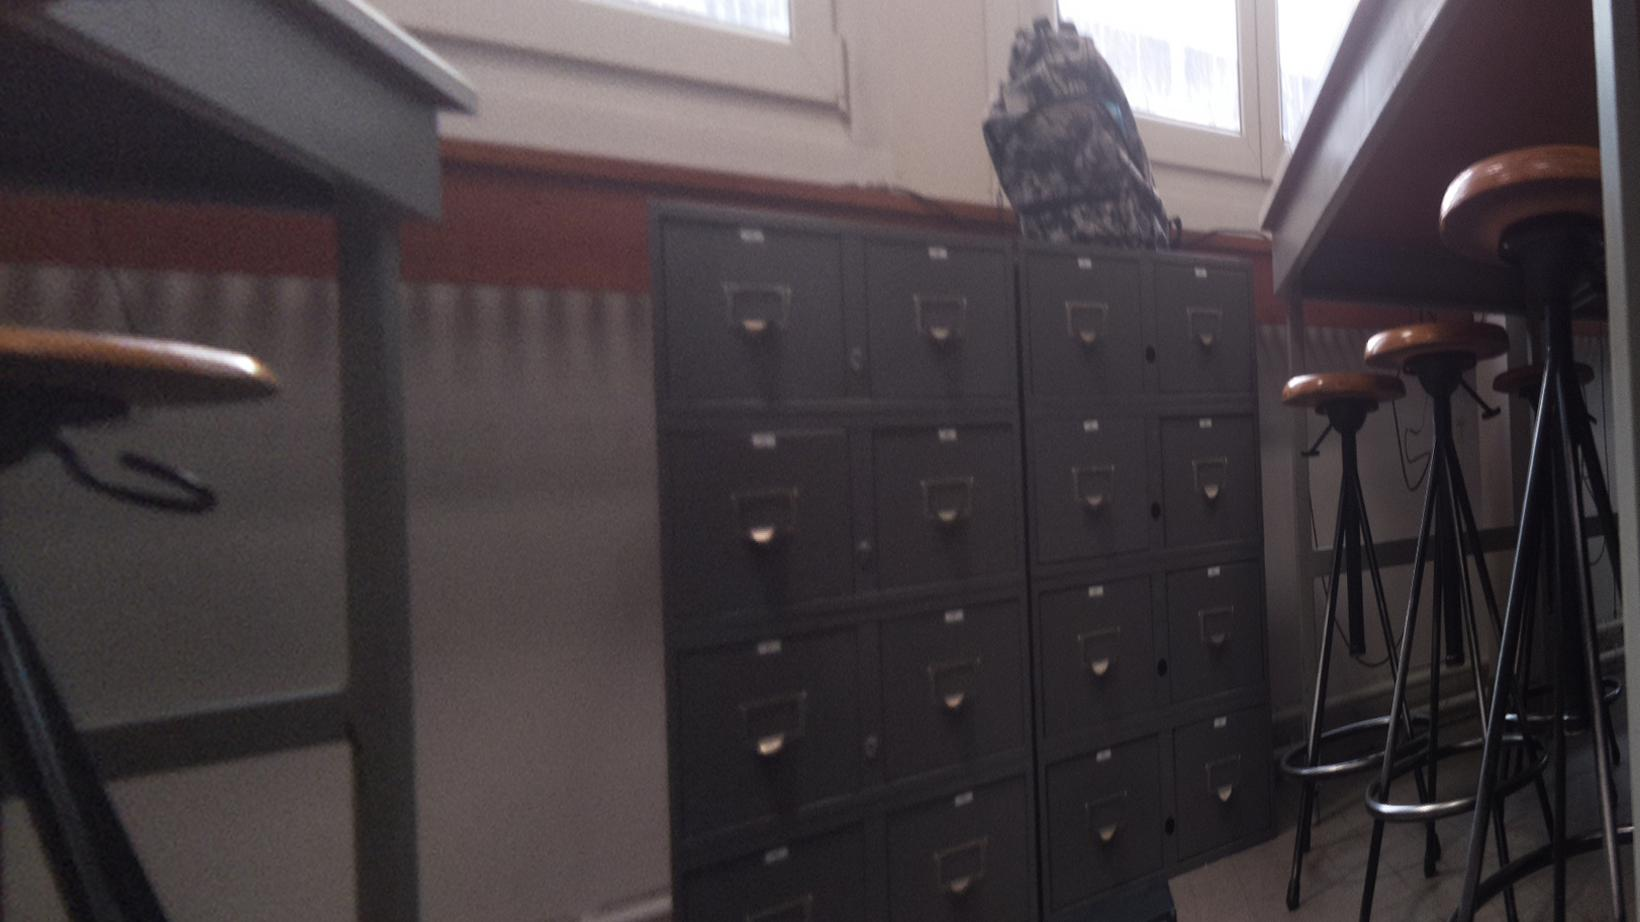big: (987, 30, 1177, 250)
medium: (1037, 883, 1178, 922)
